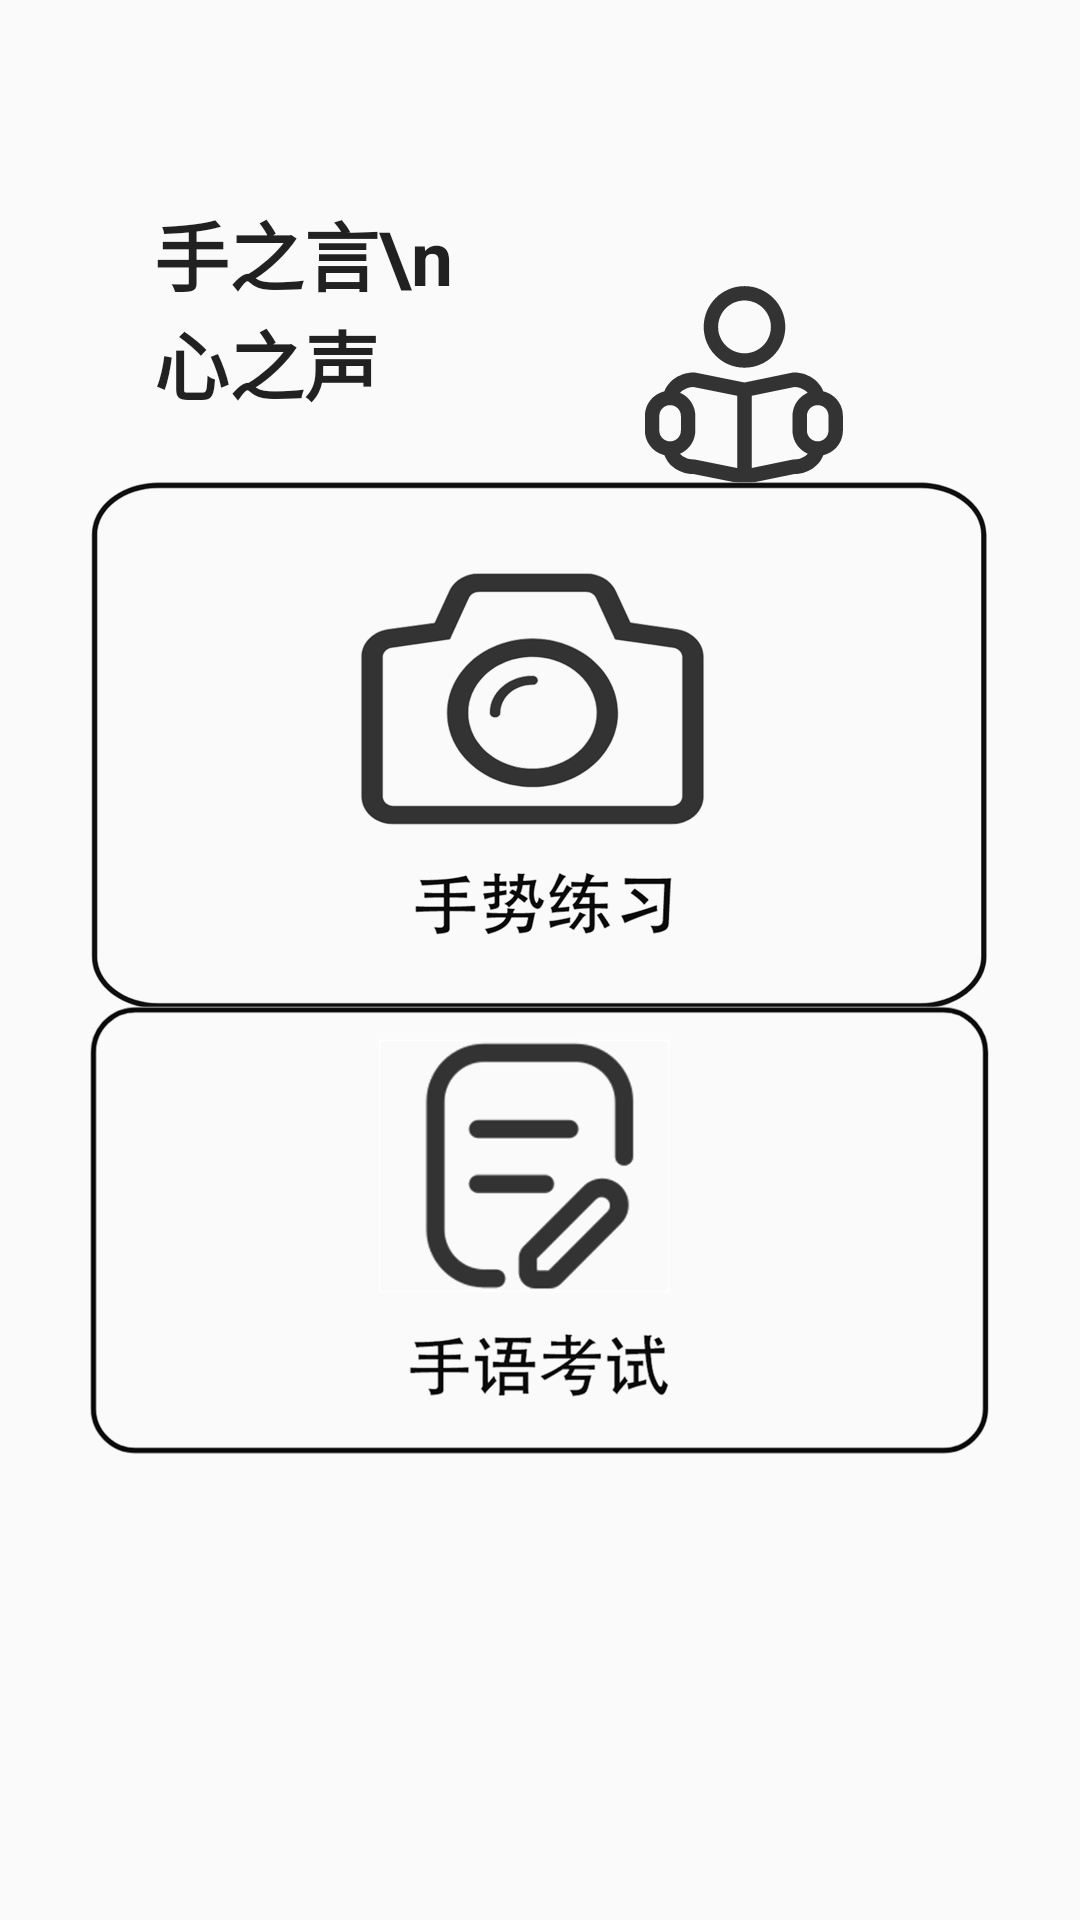

Screen size 1080×1920. Icon name, then its center in pixels as (x,y):
dangjian xuexiyuandi: (743,387)
